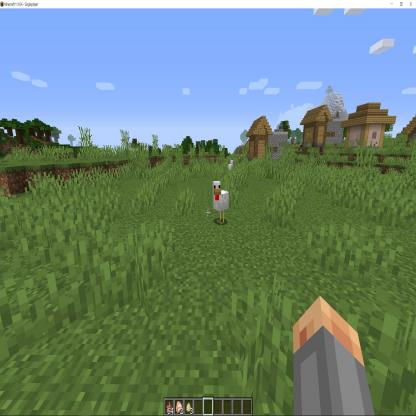minecraft-pigs: (211, 180, 233, 228), (226, 158, 236, 178)
